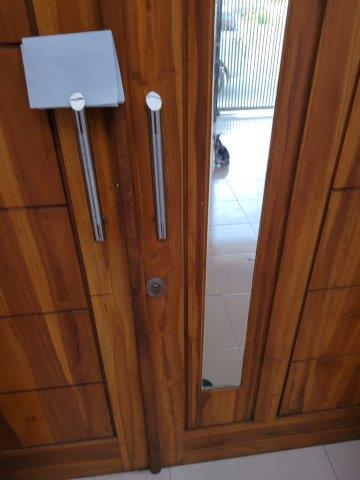kertas: (19, 30, 127, 108)
